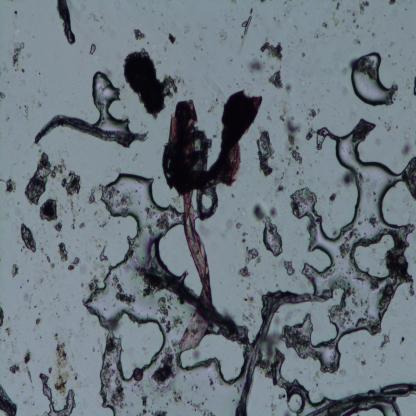Air bubble: (85, 167, 242, 416), (279, 120, 413, 371), (349, 51, 399, 108), (348, 230, 396, 287), (92, 70, 129, 132), (39, 368, 77, 414), (260, 215, 284, 260)
Background material: (235, 291, 329, 416), (121, 43, 176, 119), (23, 150, 67, 202), (277, 106, 305, 165), (49, 333, 72, 395), (256, 129, 277, 183), (150, 347, 176, 389), (388, 236, 410, 284), (110, 272, 138, 307), (261, 332, 279, 385), (104, 364, 125, 408), (160, 296, 181, 334), (337, 224, 360, 258), (236, 288, 254, 328), (107, 186, 130, 216), (10, 38, 29, 74), (144, 208, 168, 235), (401, 157, 416, 200), (62, 168, 83, 198), (240, 247, 260, 278), (38, 197, 61, 223), (19, 223, 38, 254), (187, 395, 215, 416), (257, 39, 282, 61), (268, 66, 288, 90), (246, 55, 266, 76), (84, 271, 100, 294), (166, 387, 184, 406), (274, 173, 289, 195), (240, 11, 251, 41), (129, 24, 146, 43), (252, 204, 269, 221), (340, 170, 357, 186), (96, 244, 110, 263), (3, 177, 17, 195), (382, 121, 400, 135), (68, 198, 76, 229), (24, 352, 32, 382), (282, 258, 294, 278), (378, 332, 390, 352), (356, 1, 372, 16), (57, 242, 68, 262), (401, 143, 414, 158), (207, 374, 217, 393), (78, 316, 86, 339), (8, 360, 21, 374), (68, 256, 81, 270), (86, 42, 99, 56), (33, 315, 45, 329), (24, 292, 33, 310), (268, 206, 280, 219), (308, 109, 320, 122), (23, 395, 37, 406), (12, 262, 21, 279), (150, 408, 169, 416), (46, 255, 56, 270), (0, 306, 7, 327), (32, 278, 44, 290), (326, 192, 336, 206), (166, 32, 178, 43), (88, 188, 96, 204), (52, 293, 62, 304), (54, 220, 63, 232), (4, 326, 13, 337), (51, 312, 61, 320), (140, 394, 146, 407), (190, 383, 198, 392), (136, 409, 146, 416), (360, 357, 366, 368), (399, 336, 404, 346), (116, 166, 122, 174), (79, 222, 86, 228), (236, 222, 241, 229), (99, 343, 102, 353), (22, 382, 27, 387), (31, 386, 35, 392), (92, 346, 95, 353), (26, 279, 30, 283), (80, 283, 84, 287)
Cellulose filter fibre: (148, 264, 250, 354), (32, 115, 150, 147), (309, 380, 416, 415), (57, 0, 77, 46), (0, 382, 18, 414)
Cotton: (168, 86, 264, 354)
Diatom: (132, 368, 144, 382)
